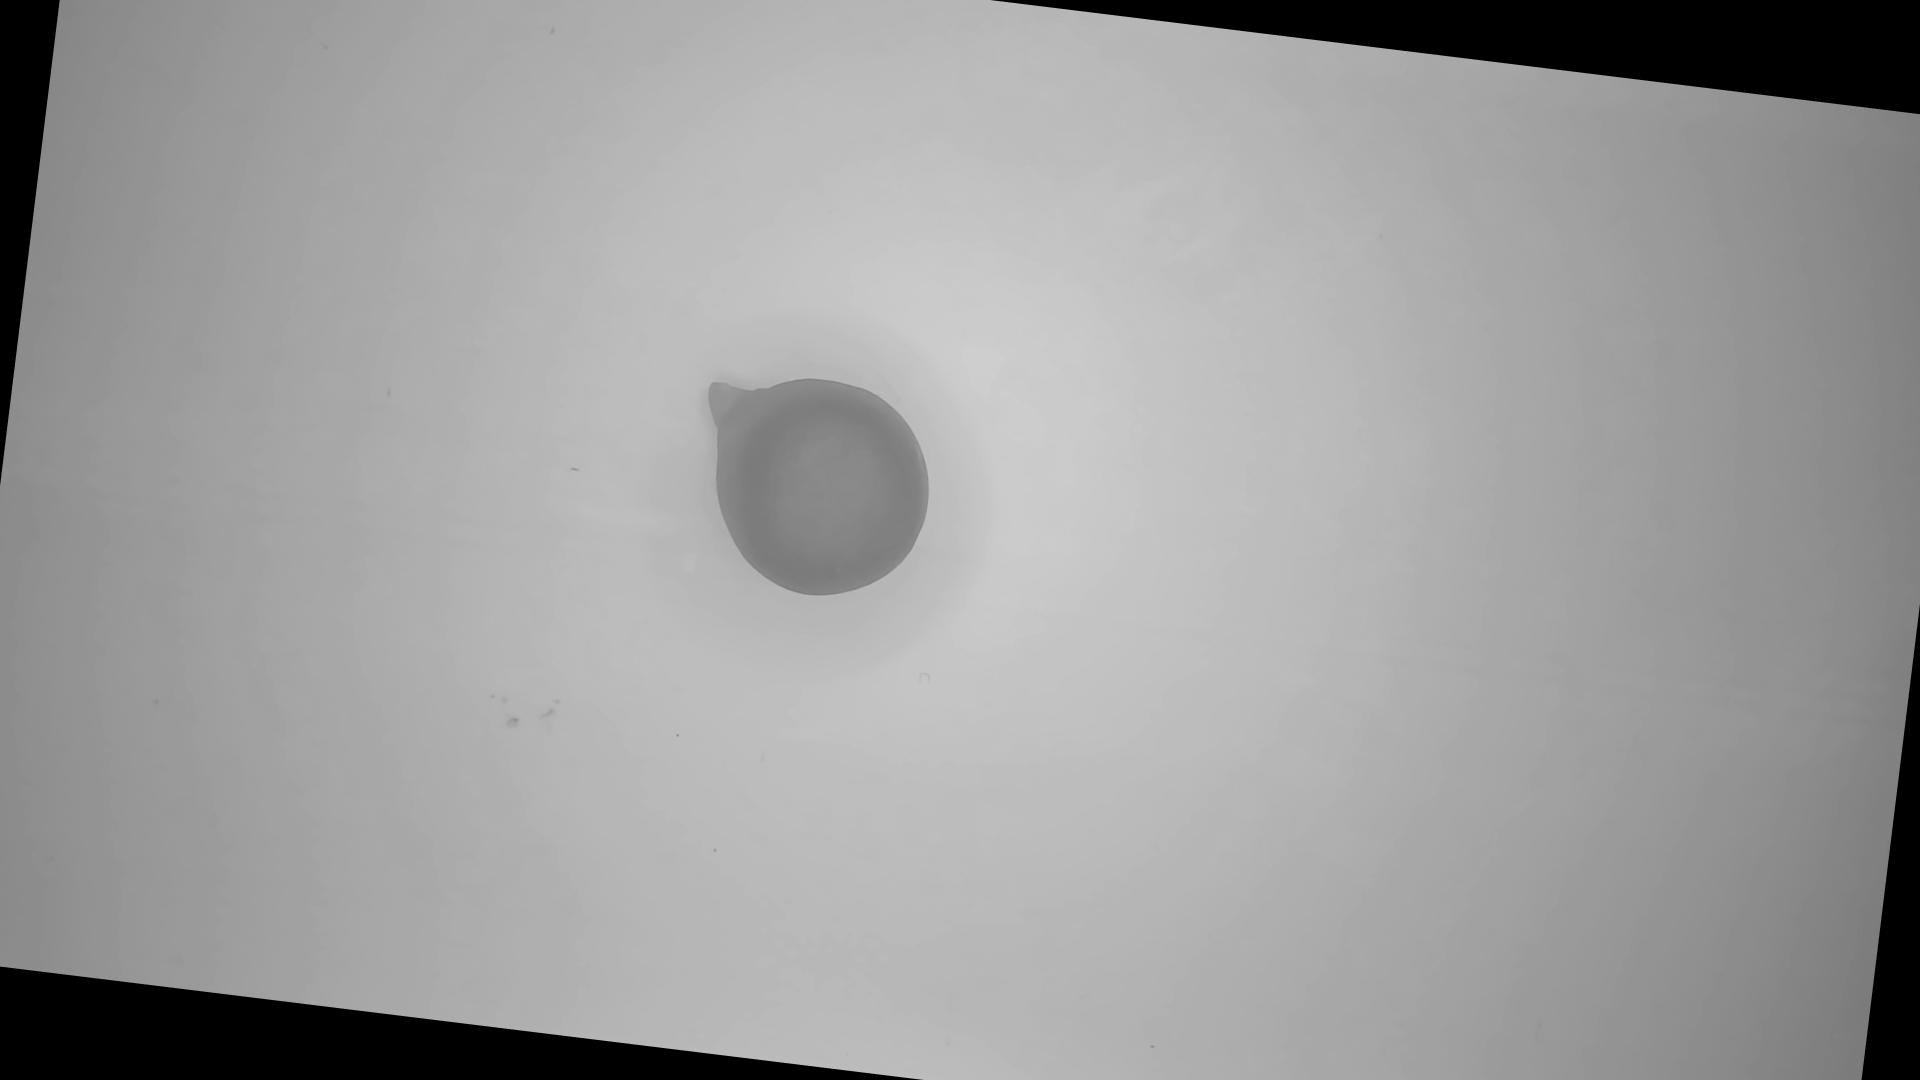abnormal: (683, 361, 945, 611)
